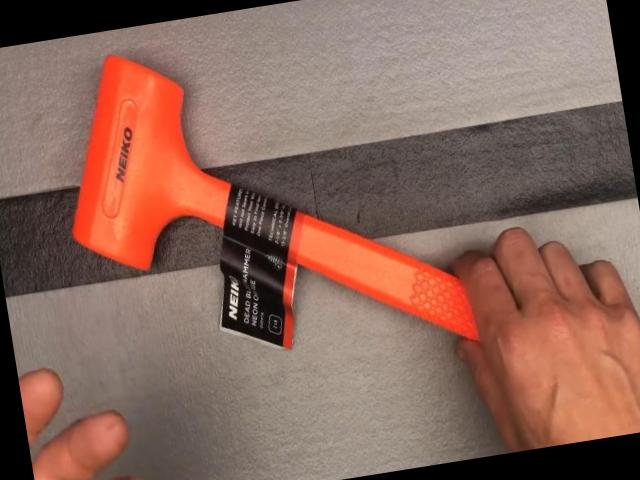hammer: (45, 0, 640, 460)
